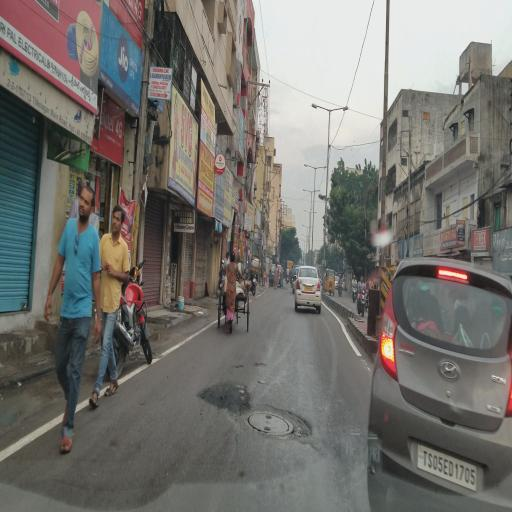street_light_0: (309, 92, 329, 118), (316, 158, 334, 180), (296, 156, 314, 178), (330, 104, 352, 120), (312, 184, 323, 202), (300, 183, 311, 201), (310, 201, 319, 218), (302, 200, 310, 217)
